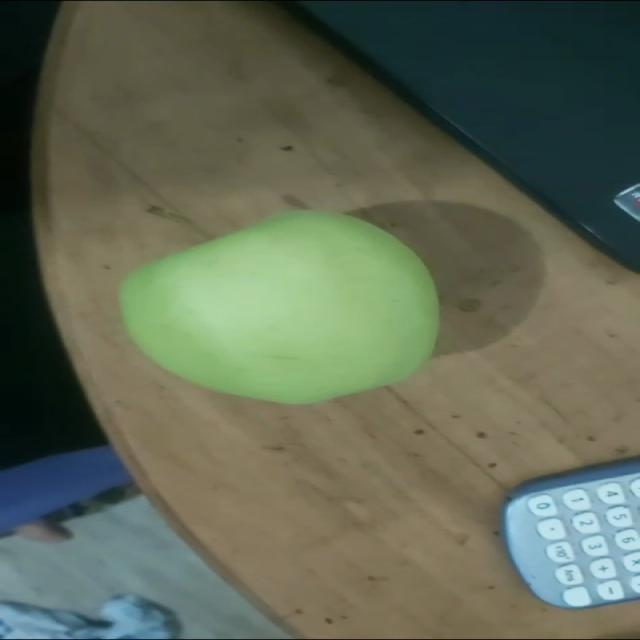50-_ripeness: (116, 211, 440, 403)
